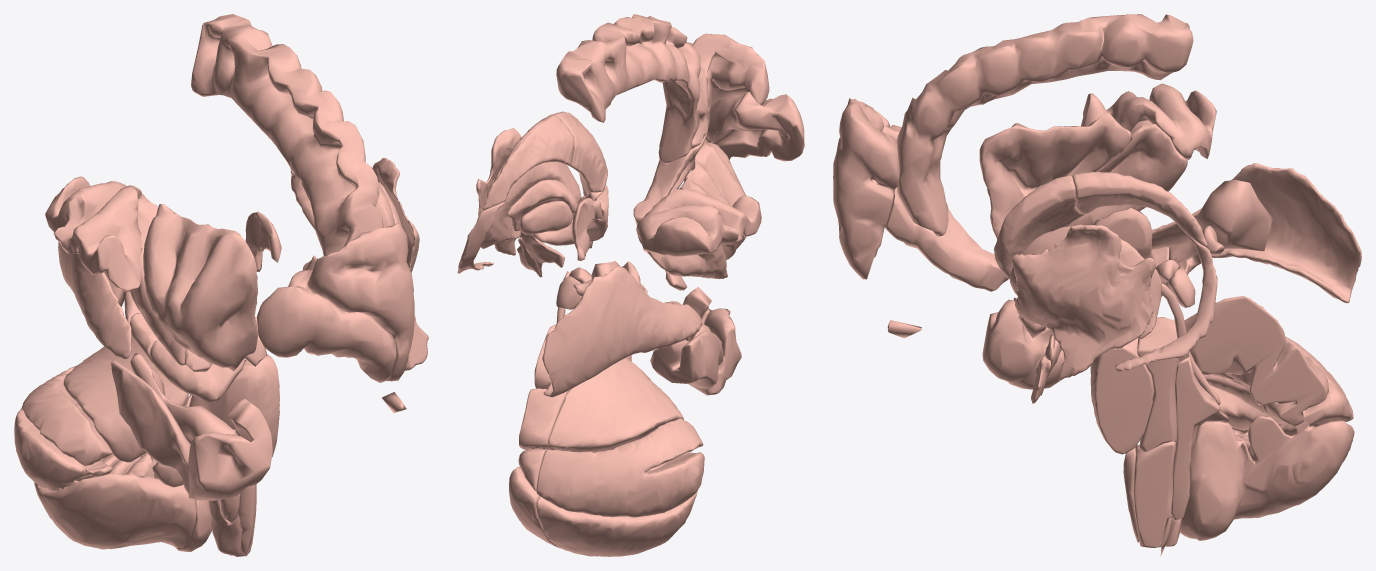
File: female-a-organ-3.glb
The picture shows the model from 3 angles, left to right: view 1: azimuth 30°, elevation 25°; view 2: azimuth 150°, elevation 25°; view 3: azimuth 270°, elevation 25°; orthographic projection. The views are drawn at different scales.
Visible parts, largest first — view 1: Allen_lateral_hemisphere_of_cerebellum_L, Allen_posteroventral_putamen_L, Allen_short_insular_gyri_L, Allen_frontomarginal_gyrus_L, Allen_rostral_gyrus_L, Allen_paracingulate_gyrus_L, Allen_parietal_operculum_L, Allen_frontal_pole_L, Allen_basilar_part_of_pons_L, Allen_head_of_hippocampus_L, Allen_long_insular_gyri_L, Allen_claustrum_R (+7 smaller); view 2: Allen_lateral_hemisphere_of_cerebellum_L, Allen_posteroventral_putamen_L, Allen_frontal_pole_L, Allen_parietal_operculum_L, Allen_frontomarginal_gyrus_L, Allen_paracingulate_gyrus_L, Allen_paravermis_of_cerebellum_L, Allen_rostral_gyrus_L, Allen_body_of_caudate_R, Allen_short_insular_gyri_L, Allen_putamen_R, Allen_head_of_caudate_R (+10 smaller); view 3: Allen_paravermis_of_cerebellum_L, Allen_posteroventral_putamen_L, Allen_claustrum_R, Allen_frontal_pole_L, Allen_short_insular_gyri_L, Allen_rostral_gyrus_L, Allen_basilar_part_of_pons_L, Allen_parietal_operculum_L, Allen_atrium_of_lateral_ventricle_L, Allen_frontomarginal_gyrus_L, Allen_head_of_caudate_R, Allen_long_insular_gyri_L (+12 smaller).
Boxes of the visible parts, x1,y1,x2,y2 form: Allen_lateral_hemisphere_of_cerebellum_L: (14, 336, 196, 549); Allen_posteroventral_putamen_L: (191, 14, 383, 255); Allen_short_insular_gyri_L: (143, 204, 258, 371); Allen_frontomarginal_gyrus_L: (111, 353, 272, 500); Allen_rostral_gyrus_L: (307, 223, 414, 381); Allen_paracingulate_gyrus_L: (257, 270, 396, 382); Allen_parietal_operculum_L: (45, 176, 142, 292); Allen_frontal_pole_L: (58, 241, 131, 359); Allen_basilar_part_of_pons_L: (189, 354, 279, 456); Allen_head_of_hippocampus_L: (149, 340, 245, 402); Allen_long_insular_gyri_L: (130, 194, 185, 365); Allen_claustrum_R: (372, 158, 419, 272); Allen_lateral_hemisphere_of_cerebellum_L: (536, 358, 704, 556); Allen_posteroventral_putamen_L: (556, 14, 709, 164); Allen_frontal_pole_L: (542, 265, 702, 397); Allen_parietal_operculum_L: (636, 187, 761, 256); Allen_frontomarginal_gyrus_L: (650, 287, 741, 395); Allen_paracingulate_gyrus_L: (711, 92, 804, 161); Allen_paravermis_of_cerebellum_L: (509, 324, 569, 548); Allen_rostral_gyrus_L: (691, 33, 769, 170); Allen_body_of_caudate_R: (482, 115, 573, 210); Allen_short_insular_gyri_L: (680, 142, 746, 259); Allen_putamen_R: (480, 154, 581, 248); Allen_head_of_caudate_R: (548, 111, 607, 197); Allen_paravermis_of_cerebellum_L: (1180, 296, 1354, 540); Allen_posteroventral_putamen_L: (896, 14, 1193, 236); Allen_claustrum_R: (1012, 224, 1155, 380); Allen_frontal_pole_L: (1151, 163, 1361, 303); Allen_short_insular_gyri_L: (979, 112, 1132, 239); Allen_rostral_gyrus_L: (833, 98, 899, 279); Allen_basilar_part_of_pons_L: (1090, 338, 1154, 454); Allen_parietal_operculum_L: (1081, 83, 1216, 160); Allen_atrium_of_lateral_ventricle_L: (885, 187, 1008, 291); Allen_frontomarginal_gyrus_L: (982, 299, 1064, 389); Allen_head_of_caudate_R: (994, 175, 1084, 278); Allen_long_insular_gyri_L: (1068, 120, 1187, 226).
Size of the model in its own units: 0.079 by 0.1299 by 0.1161.
